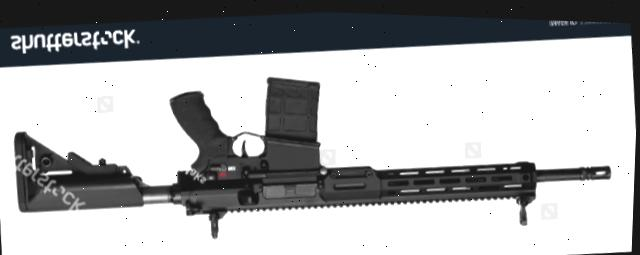rifle: (0, 32, 637, 255)
